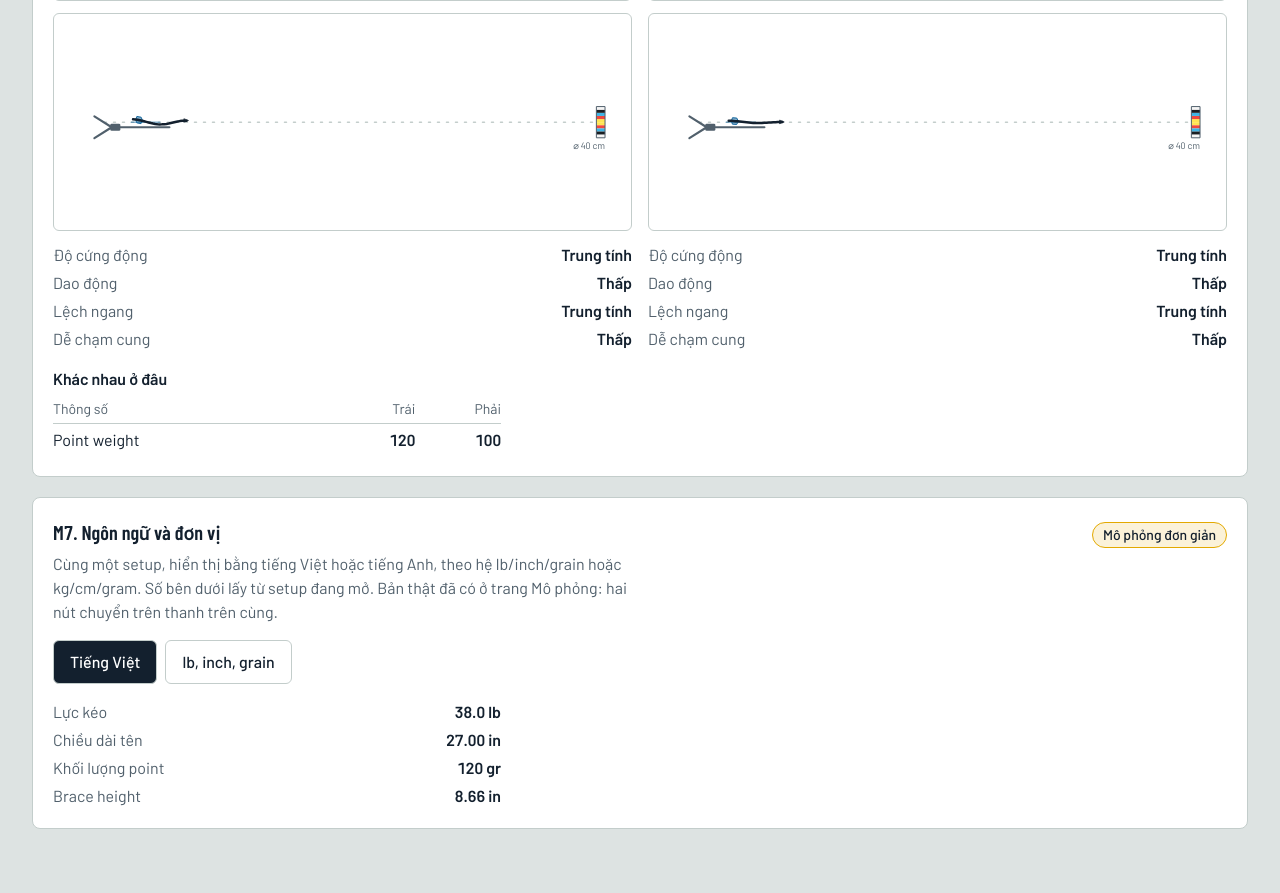
demos that do something › switches the units demo between systems
The image size is (1280, 893).
(page scrolled)
Expected: the text "38.0 lb" is shown, top-left (455, 700), bottom-right (501, 724)
Click the button "lb, inch, grain" at (229, 662), box top-left (165, 640), bottom-right (292, 684)
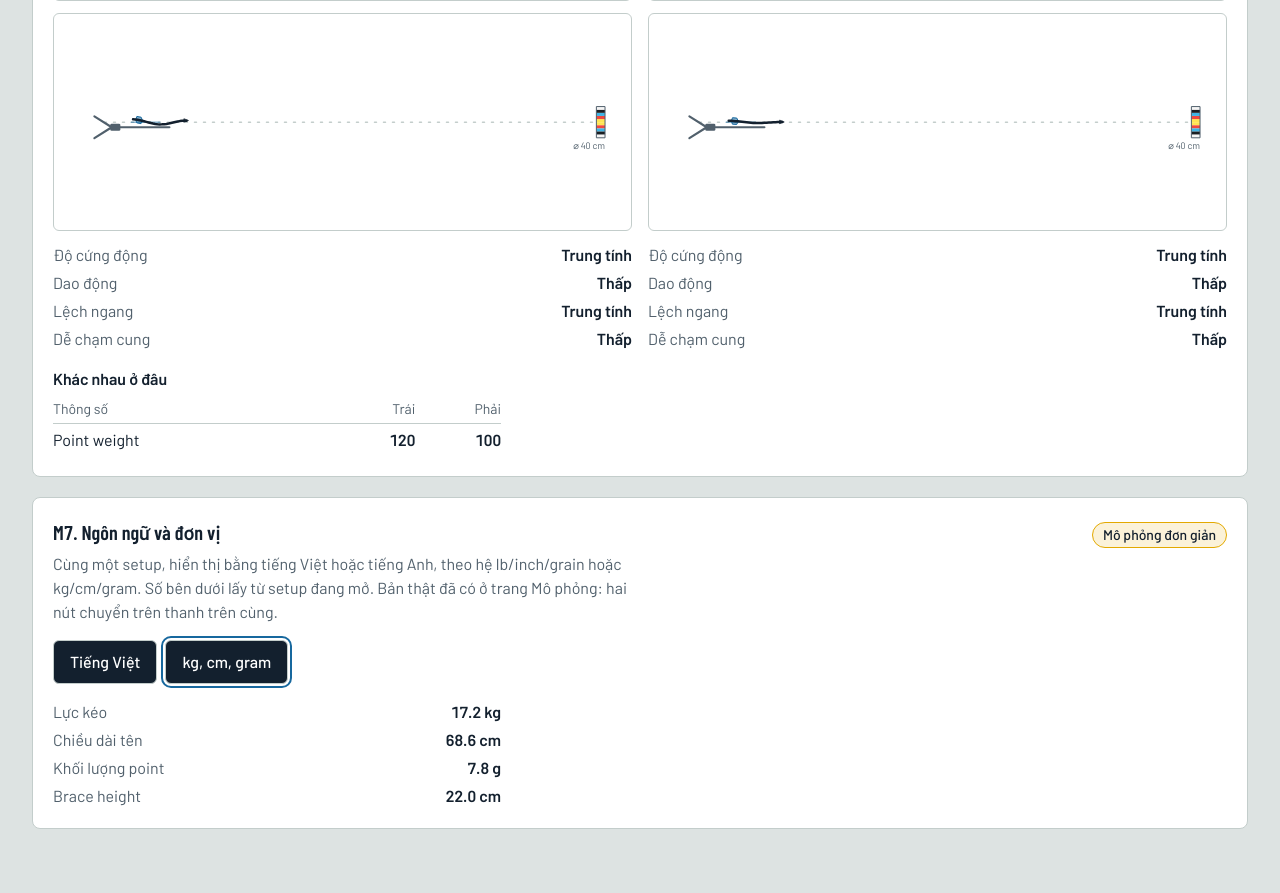
Expected: the text "17.2 kg" is shown, top-left (451, 700), bottom-right (501, 724)
